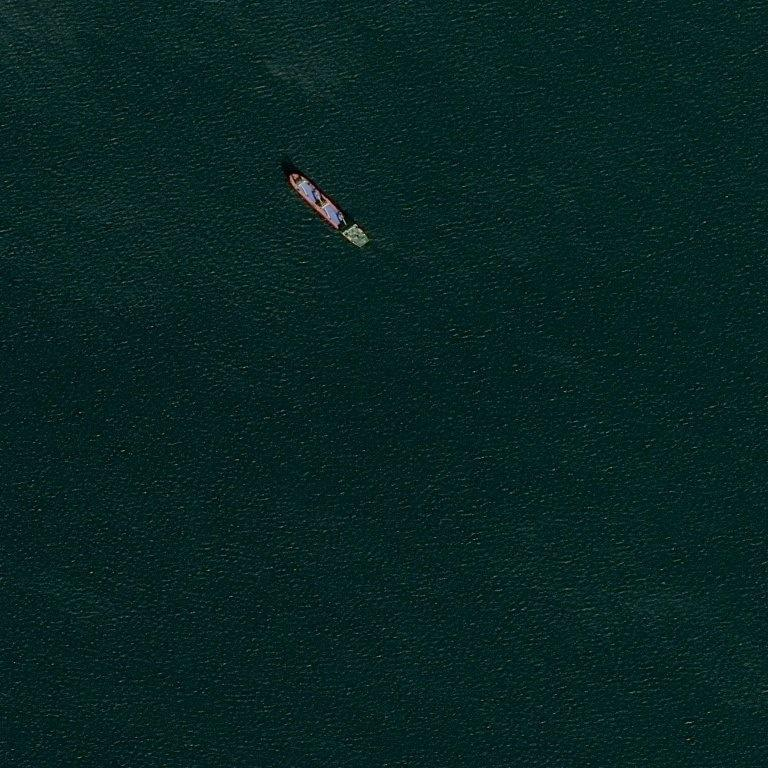ship: (285, 167, 370, 252)
